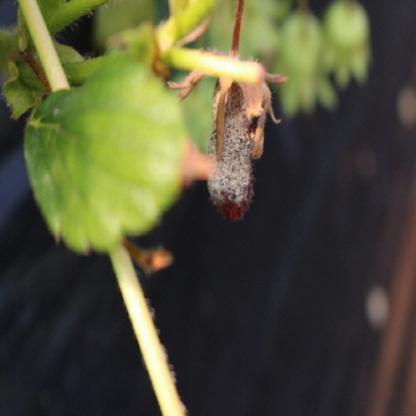Strawberry_Gray_Mold: (166, 48, 292, 221)
